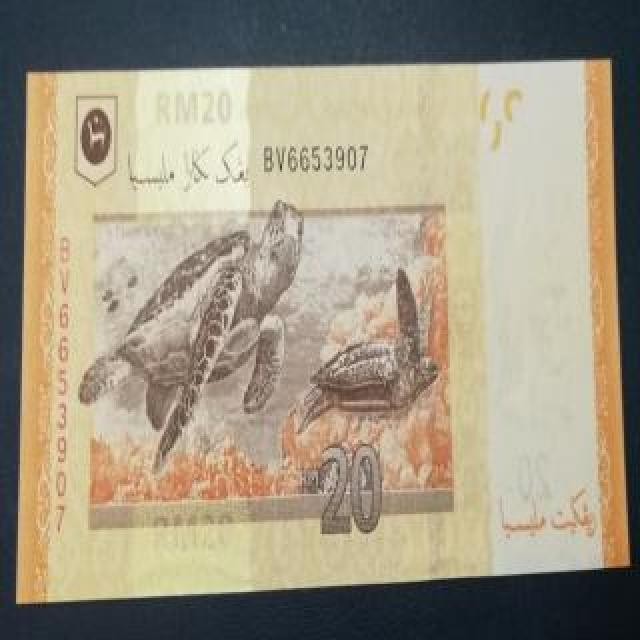20 Ringgit: (16, 66, 624, 610)
